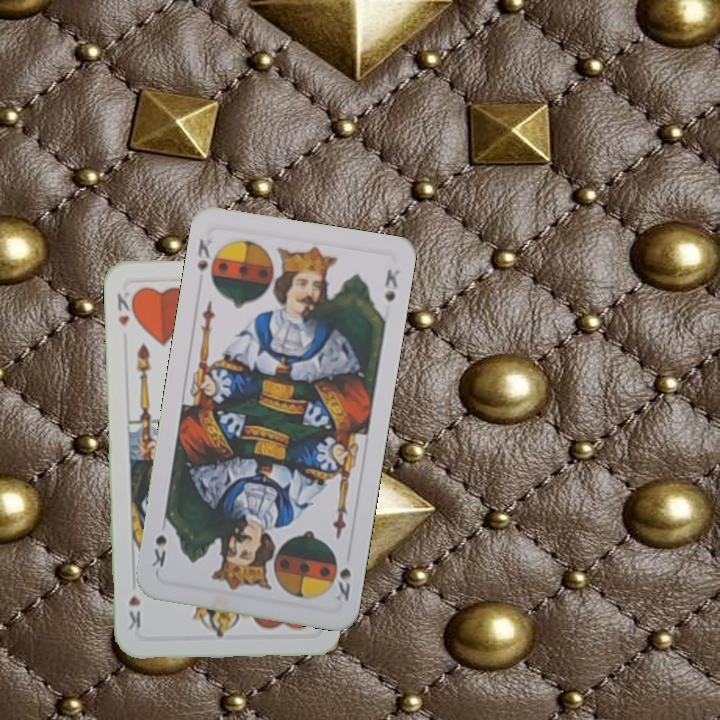HK: (113, 288, 138, 329)
SK: (327, 549, 354, 606), (193, 234, 221, 287)
